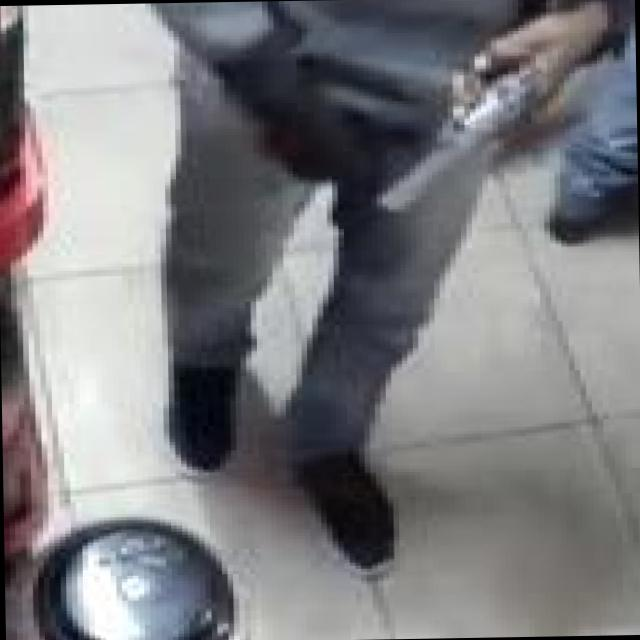Guns: (347, 41, 600, 234)
